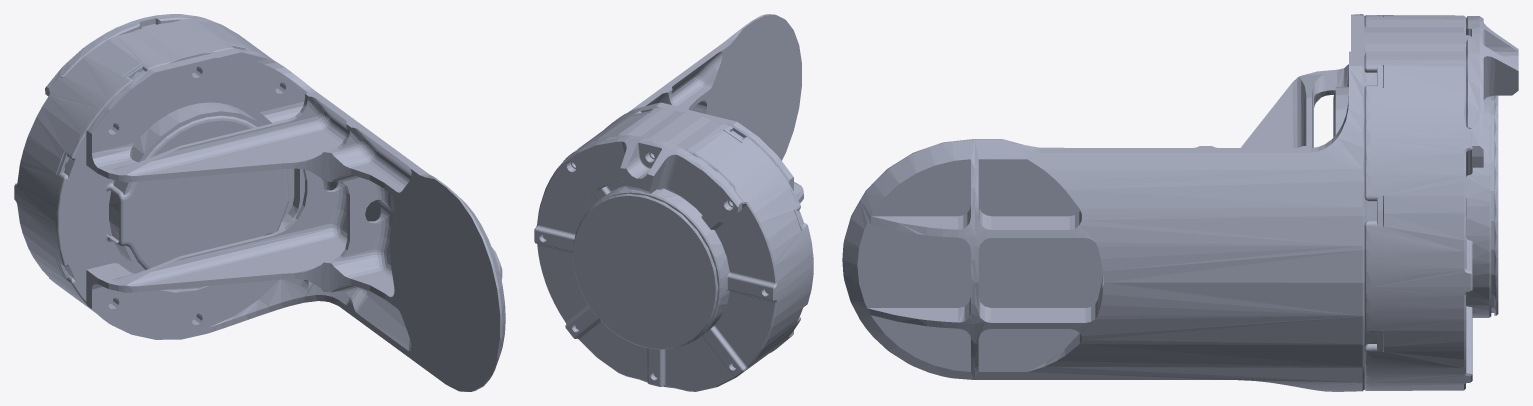
Rendered from right_shoulder_roll_link.obj.
3 renders of one model, left to right at view 1: azimuth 30°, elevation 25°; view 2: azimuth 150°, elevation 25°; view 3: azimuth 270°, elevation 25°, orthographic. The views are drawn at different scales.
Parts seen in each view (by area): view 1: right_shoulder_roll_link-mesh; view 2: right_shoulder_roll_link-mesh; view 3: right_shoulder_roll_link-mesh.
Part boxes in pixels (x1=…): right_shoulder_roll_link-mesh: x1=14, y1=14, x2=505, y2=391; right_shoulder_roll_link-mesh: x1=534, y1=14, x2=813, y2=391; right_shoulder_roll_link-mesh: x1=842, y1=14, x2=1518, y2=391.
Size of the model in its own units: 0.0968 by 0.0964 by 0.1735.
